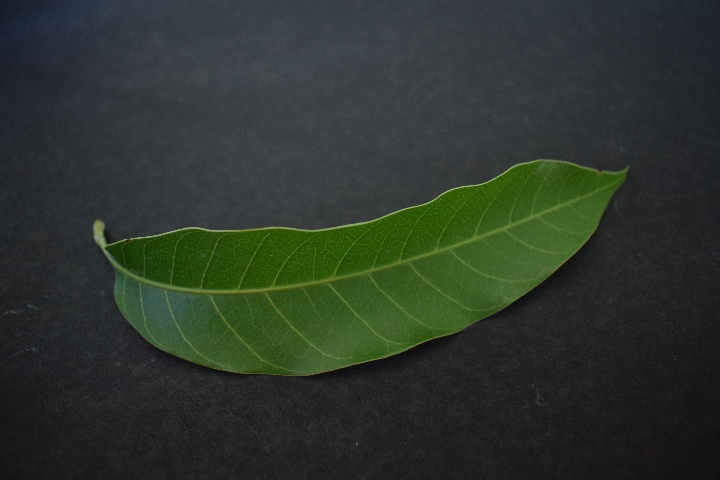healthy: (115, 152, 623, 376)
